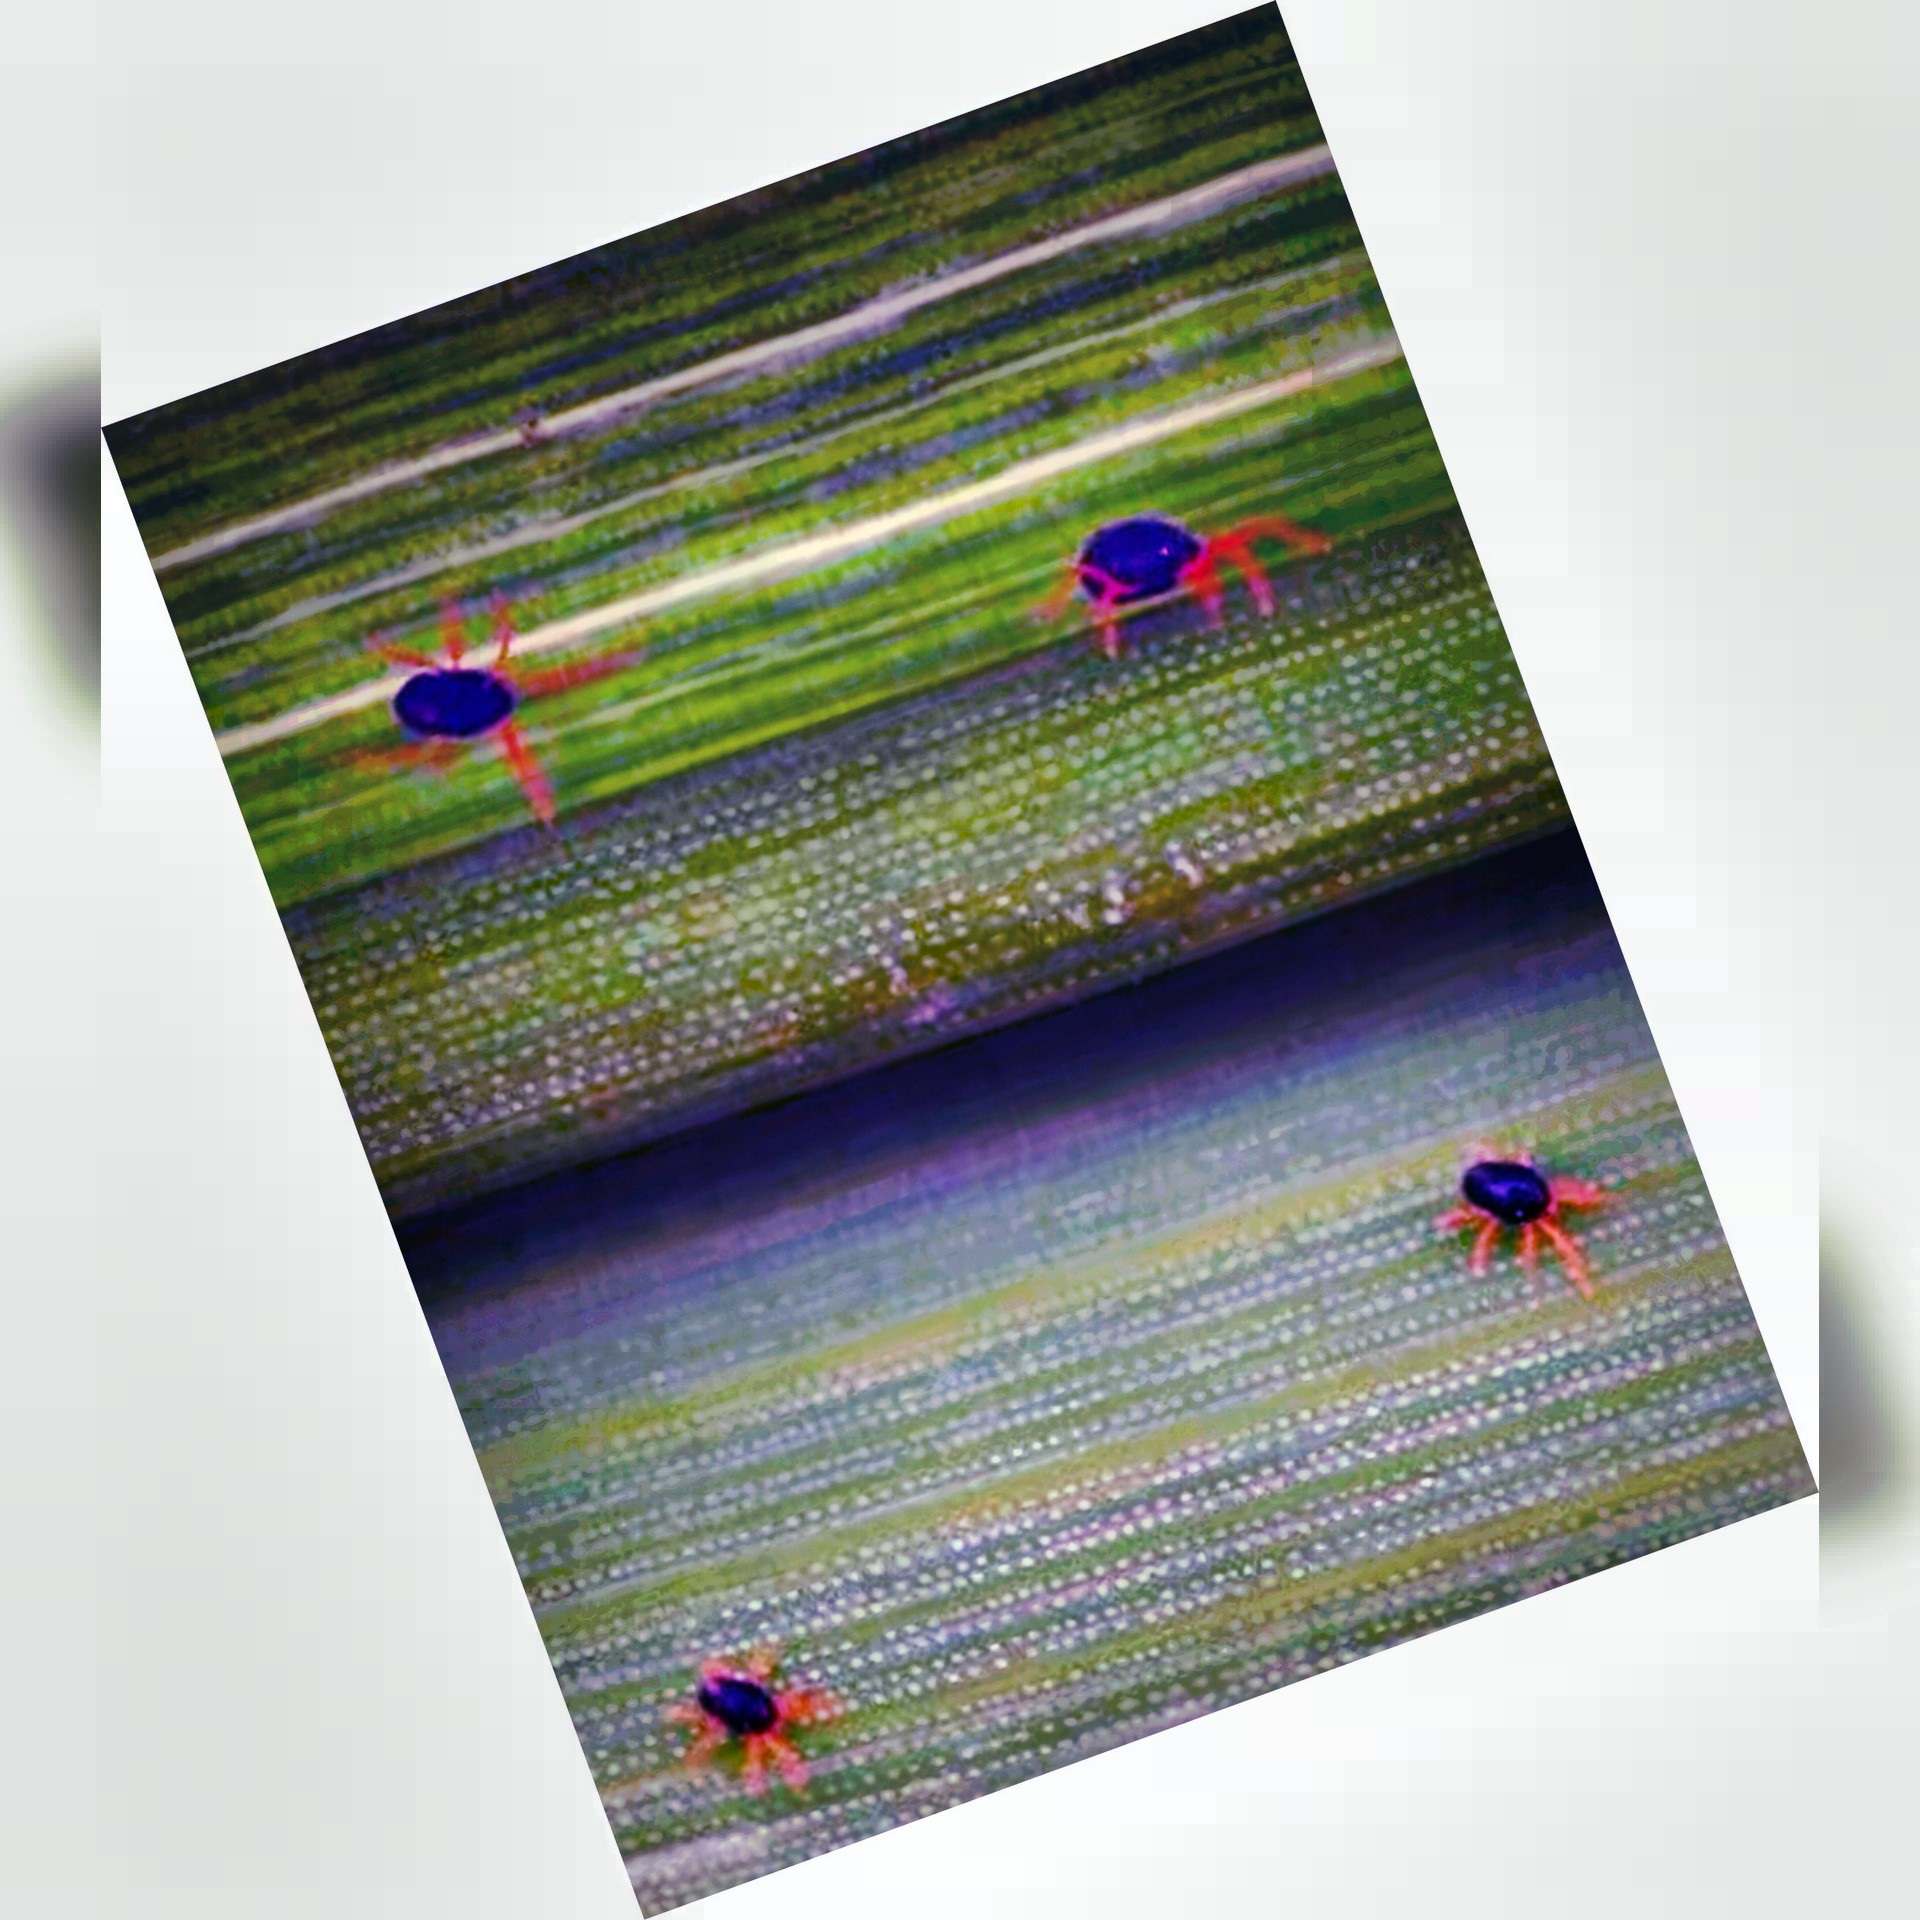Wheat Red Spider: (995, 469, 1347, 661)
